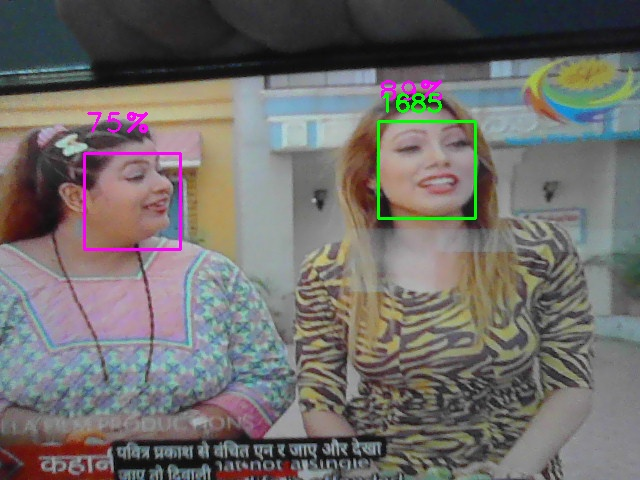fake: (378, 121, 476, 219)
